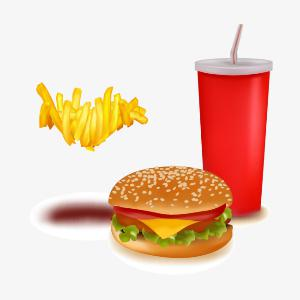cheeseburger: (97, 161, 242, 257)
fries: (27, 76, 150, 151)
